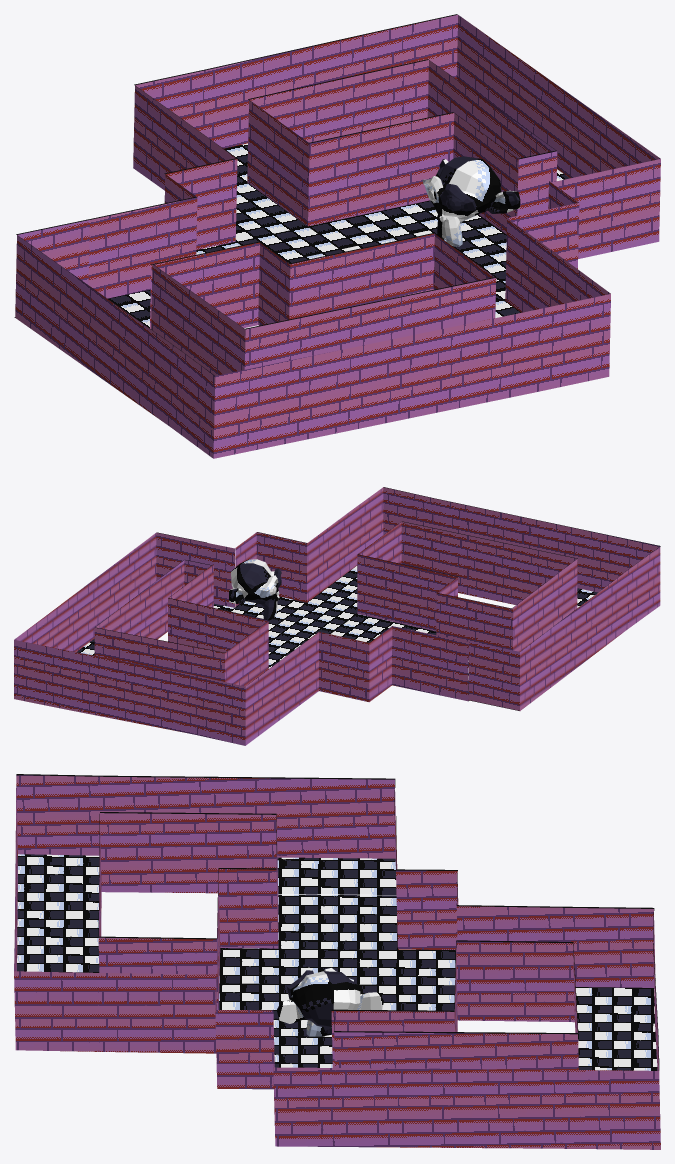
The model's file is testmap.glb.
3 views of the same model, one above another, from view 1: azimuth 30°, elevation 25°; view 2: azimuth 150°, elevation 25°; view 3: azimuth 270°, elevation 25° (orthographic). The views are drawn at different scales.
Parts seen in each view (by area): view 1: Plane; view 2: Plane; view 3: Plane.
Part boxes in pixels (box(x1,y1,x2,y2)): Plane: box(14, 14, 660, 458); Plane: box(14, 487, 660, 745); Plane: box(14, 774, 660, 1149).
Bounding box in the file's own units: 15.93 × 2.91 × 16.1.
Materials: 2 (2 with a texture image).
